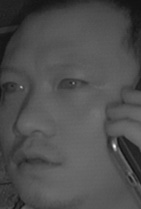eye: (55, 73, 89, 94), (1, 77, 28, 95)
mouth: (12, 142, 65, 178)
